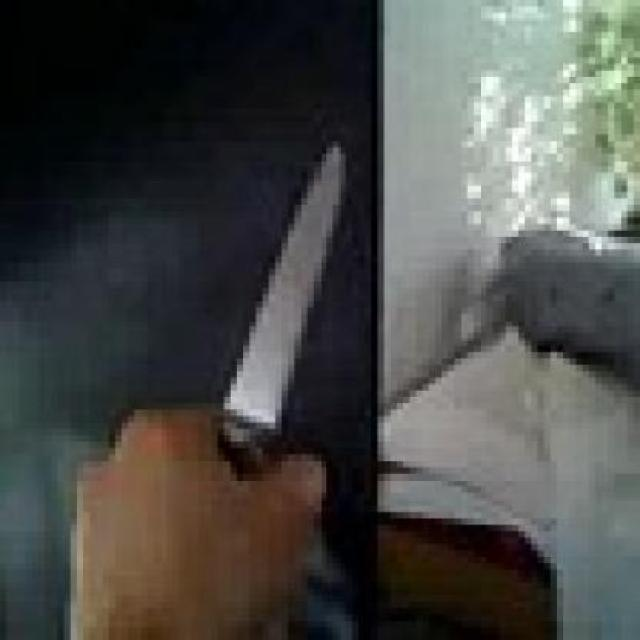Knife: (200, 132, 376, 468)
